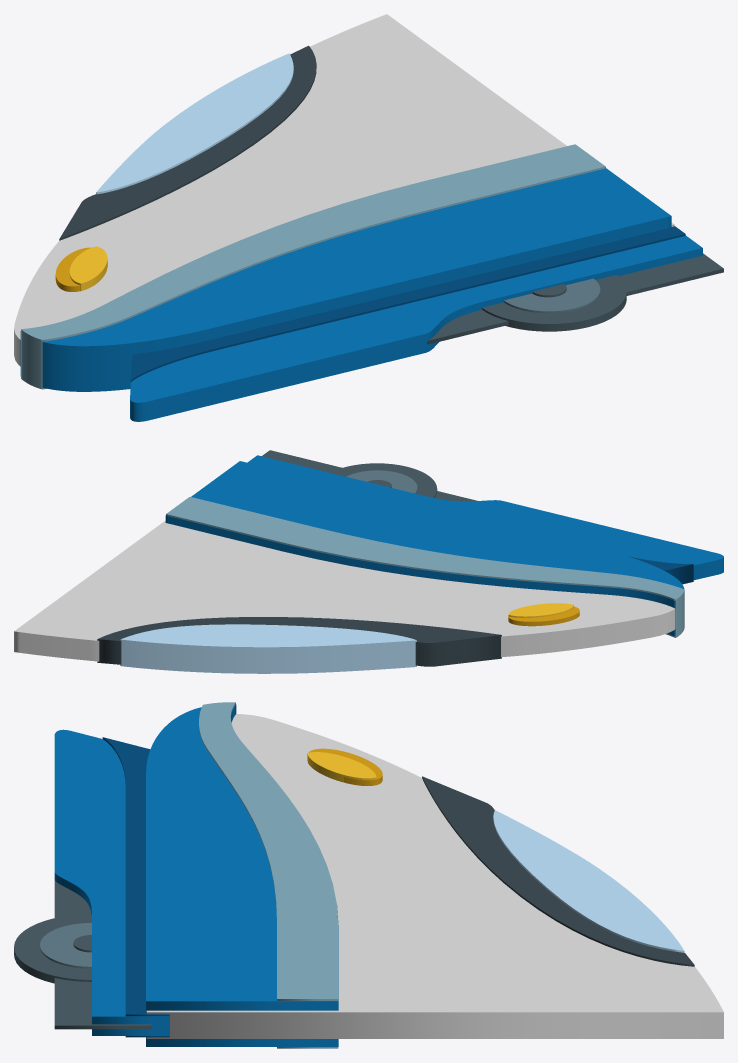
File: emoji_u1f684.glb
The picture shows the model from 3 angles, top to bottom: view 1: azimuth 30°, elevation 25°; view 2: azimuth 150°, elevation 25°; view 3: azimuth 270°, elevation 25°; orthographic projection. The views are drawn at different scales.
Parts seen in each view (by area): view 1: emoji_u1f684; view 2: emoji_u1f684; view 3: emoji_u1f684.
Part boxes in pixels (x1=…): emoji_u1f684: x1=14, y1=14, x2=723, y2=421; emoji_u1f684: x1=14, y1=450, x2=723, y2=673; emoji_u1f684: x1=14, y1=702, x2=723, y2=1048.
Bounding box in the file's own units: 0.0337 × 0.0026 × 0.0337.
